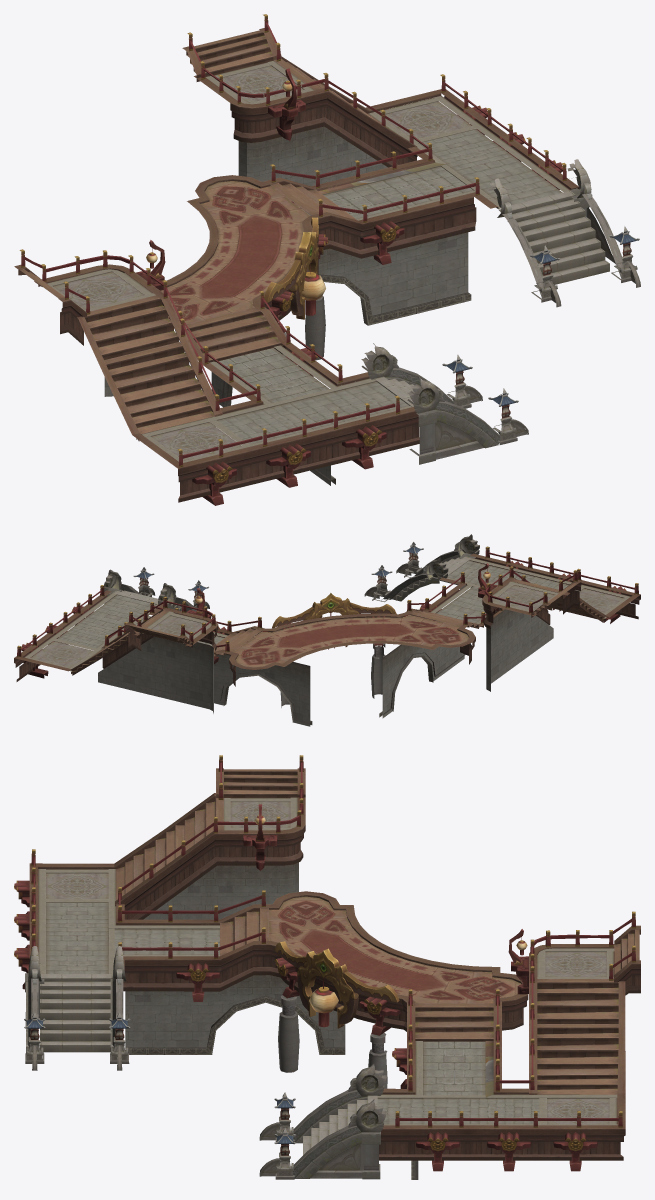
File: cj_luoyang_qiao04_55_31_5932out.fbx
3 renders of one model, top to bottom at view 1: azimuth 30°, elevation 25°; view 2: azimuth 150°, elevation 25°; view 3: azimuth 270°, elevation 25°, orthographic. The views are drawn at different scales.
Parts seen in each view (by area): view 1: 0000_cj_luoyang_qiao04, 0001_cj_luoyang_qiao04, 0002_cj_luoyang_qiao04; view 2: 0000_cj_luoyang_qiao04, 0002_cj_luoyang_qiao04, 0001_cj_luoyang_qiao04; view 3: 0000_cj_luoyang_qiao04, 0001_cj_luoyang_qiao04, 0002_cj_luoyang_qiao04.
Boxes of the visible parts, box(x1,y1,x2,y2) form: 0000_cj_luoyang_qiao04: box(14, 14, 579, 505); 0001_cj_luoyang_qiao04: box(361, 159, 640, 464); 0002_cj_luoyang_qiao04: box(104, 126, 471, 485); 0000_cj_luoyang_qiao04: box(14, 546, 640, 707); 0002_cj_luoyang_qiao04: box(98, 609, 553, 726); 0001_cj_luoyang_qiao04: box(104, 534, 479, 611); 0000_cj_luoyang_qiao04: box(14, 755, 640, 1171); 0001_cj_luoyang_qiao04: box(24, 946, 386, 1179); 0002_cj_luoyang_qiao04: box(125, 862, 418, 1179).
Size of the model in its own units: 38.53 by 13 by 36.64.
